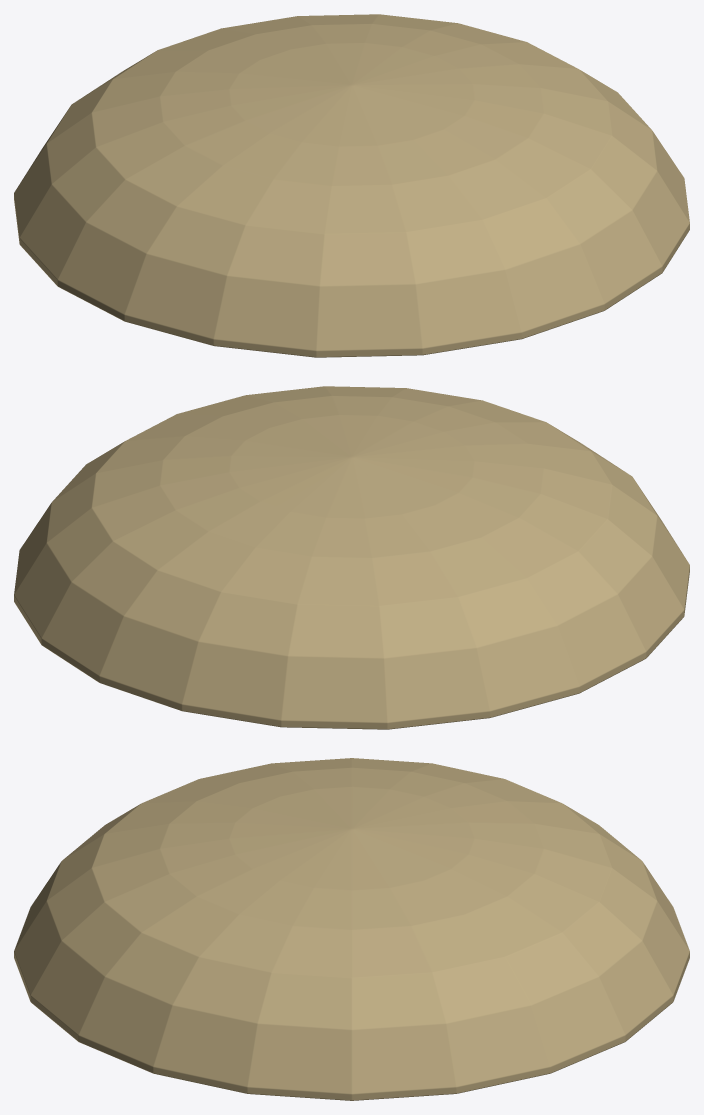
Rendered from hamburgerBunTop.fbx.
3 renders of one model, top to bottom at view 1: azimuth 30°, elevation 25°; view 2: azimuth 150°, elevation 25°; view 3: azimuth 270°, elevation 25°, orthographic.
Visible parts, largest first — view 1: hamburgerBunTop; view 2: hamburgerBunTop; view 3: hamburgerBunTop.
Boxes of the visible parts, <box> form: hamburgerBunTop: <box>14,14,689,357</box>; hamburgerBunTop: <box>14,386,689,729</box>; hamburgerBunTop: <box>14,758,689,1100</box>.
Bounding box in the file's own units: 8.89 × 1.87 × 8.89.
